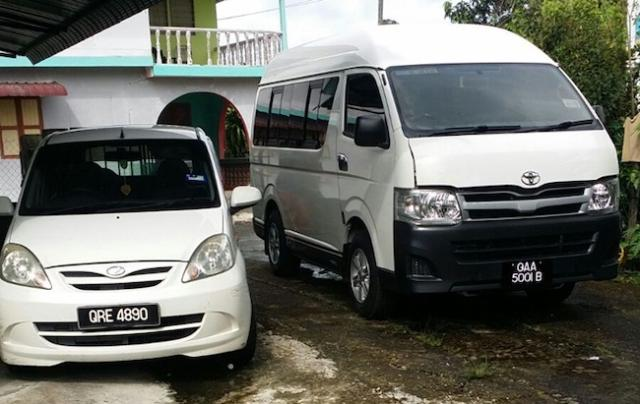License_Plate: (78, 304, 163, 332), (505, 261, 549, 288)
car: (4, 130, 267, 375)
van: (253, 20, 640, 316)
